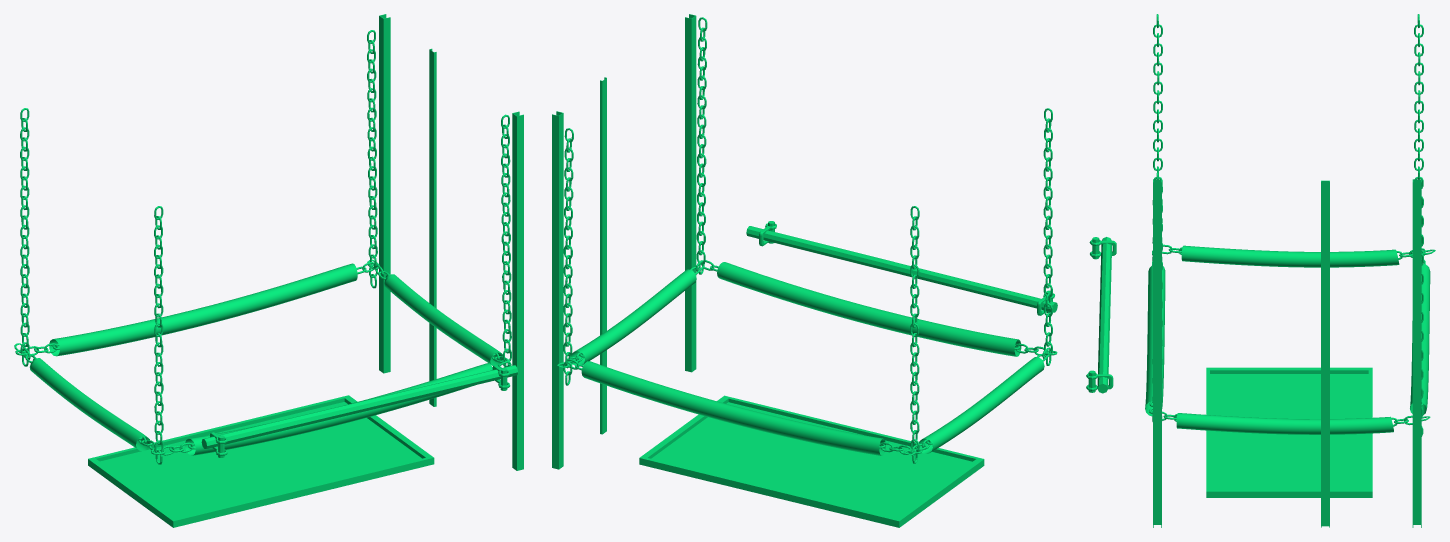
File: Grizzly.fbx
3 views of the same model, side by side, from view 1: azimuth 30°, elevation 25°; view 2: azimuth 150°, elevation 25°; view 3: azimuth 270°, elevation 25° (orthographic). The views are drawn at different scales.
Visible parts, largest first — view 1: Cube.068; view 2: Cube.068; view 3: Cube.068.
Boxes of the visible parts, x1,y1,x2,y2 form: Cube.068: (14, 14, 523, 527); Cube.068: (552, 14, 1057, 527); Cube.068: (1086, 14, 1435, 527).
Bounding box in the file's own units: 261 × 239 × 218.
